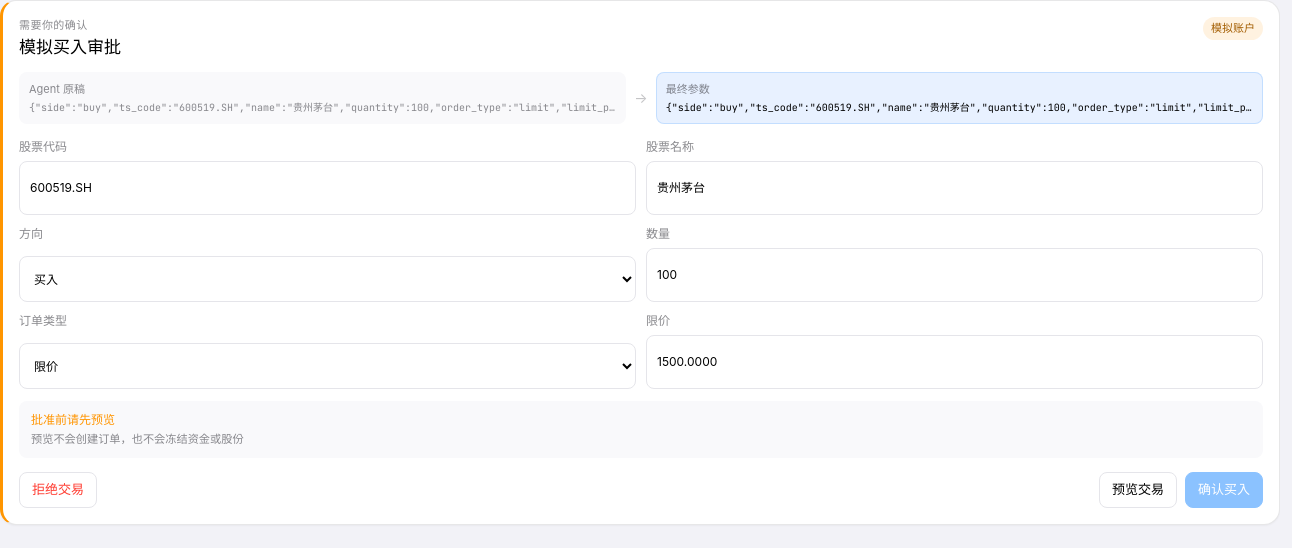
Test: <PaperApprovalCard> › aborts the previous preview and treats AbortError as silent control flow
The width and height of the screenshot is (1292, 548).
Click the button "预览交易" at (1138, 490), box [1099,472,1177,508]
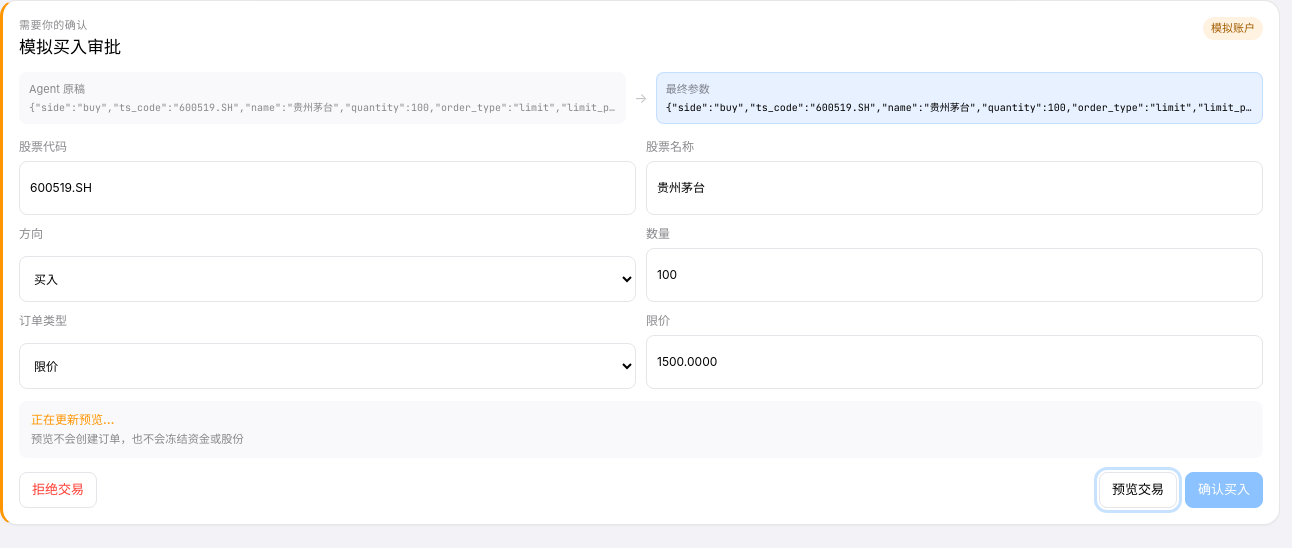
Click the button "预览交易" at (1138, 490), box [1099,472,1177,508]
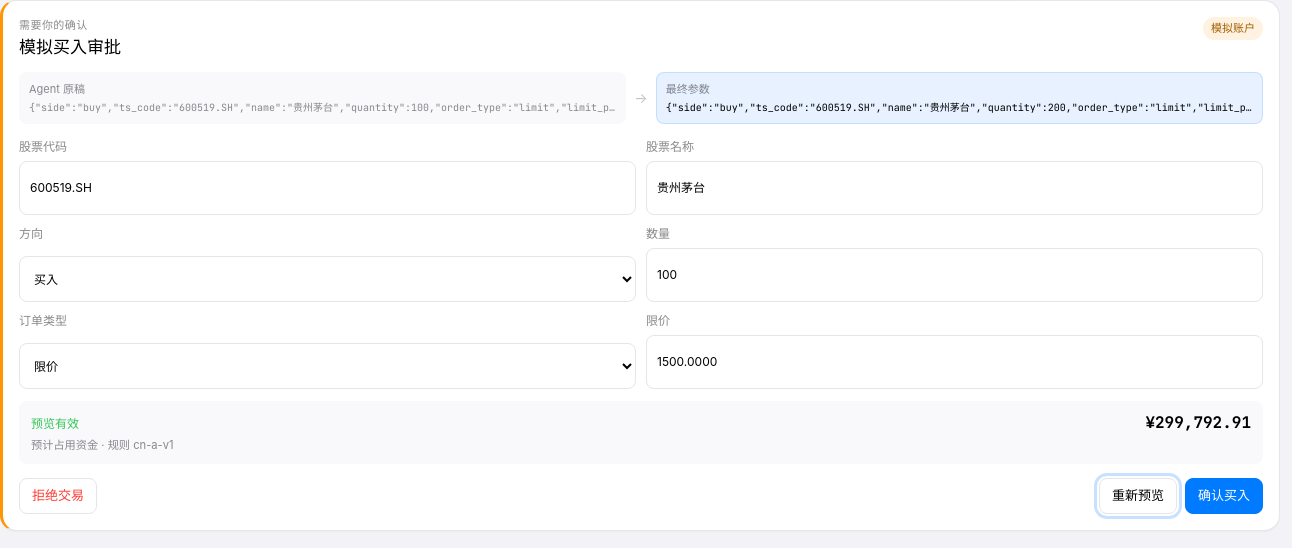
Expected: the text "¥299,792.91" is shown, [1145,411,1251,435]
